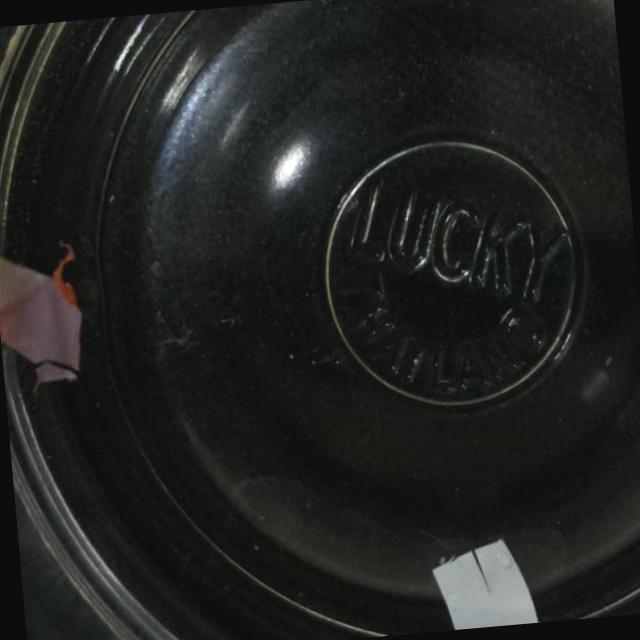fiber: (414, 536, 549, 632), (0, 246, 89, 387)
